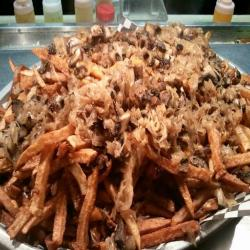fries: (14, 139, 223, 250)
